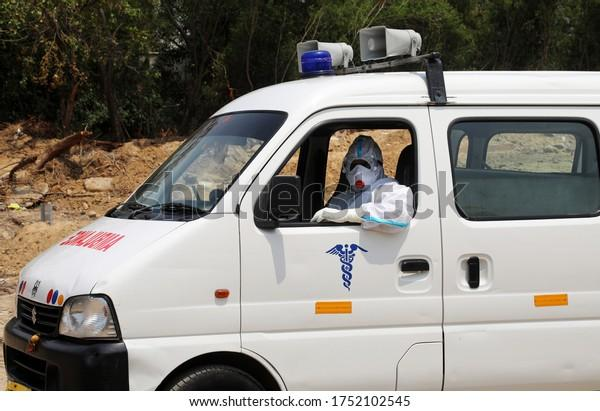ER: (4, 51, 600, 392)
